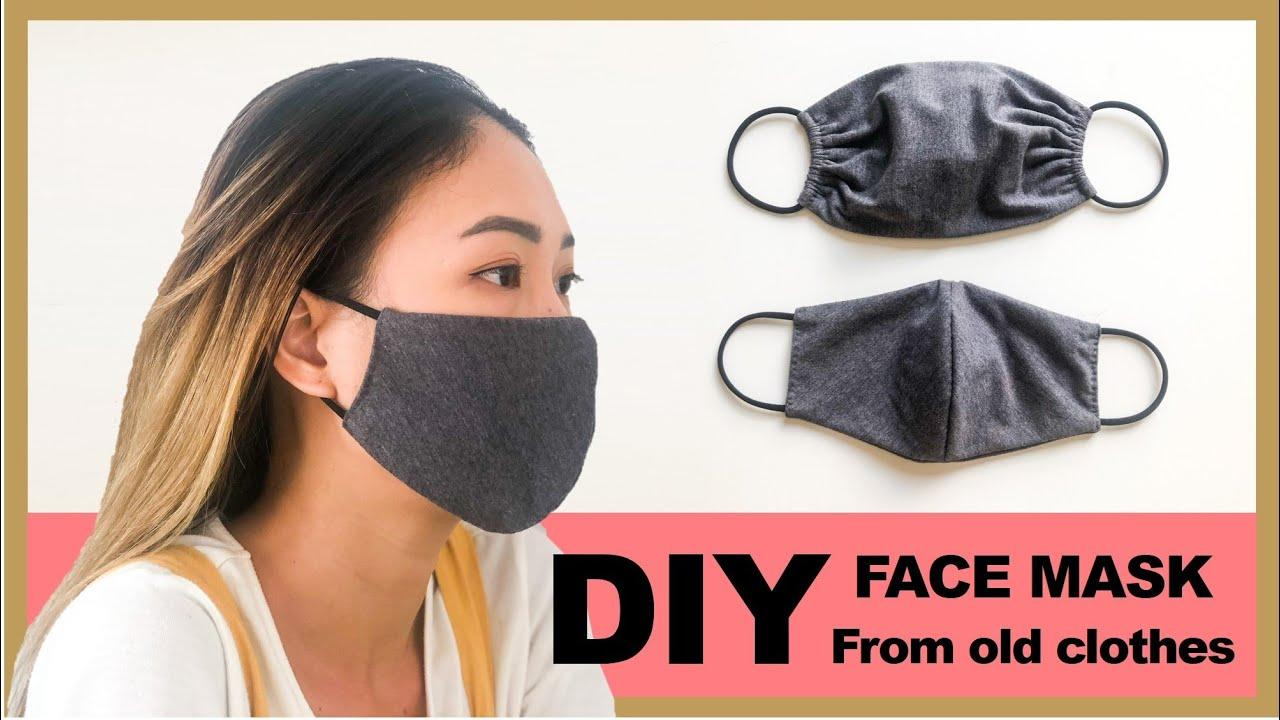Wearing Mask: (139, 0, 612, 570)
